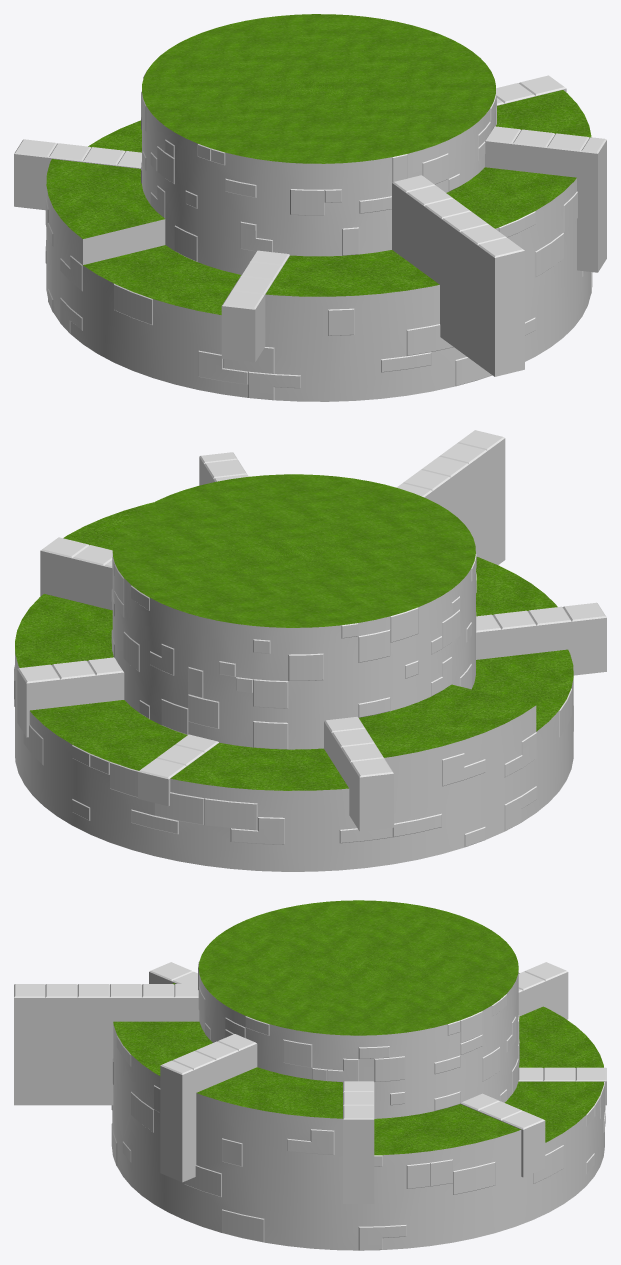
Rendered from World 1_02.fbx.
3 renders of one model, top to bottom at view 1: azimuth 30°, elevation 25°; view 2: azimuth 150°, elevation 25°; view 3: azimuth 270°, elevation 25°, orthographic. The views are drawn at different scales.
Visible parts, largest first — view 1: Cylinder.003; view 2: Cylinder.003; view 3: Cylinder.003.
Boxes of the visible parts, <box> form: Cylinder.003: <box>14,14,606,401</box>; Cylinder.003: <box>14,430,606,871</box>; Cylinder.003: <box>14,900,606,1250</box>.
Size of the model in its own units: 20145 by 8000 by 24083.
